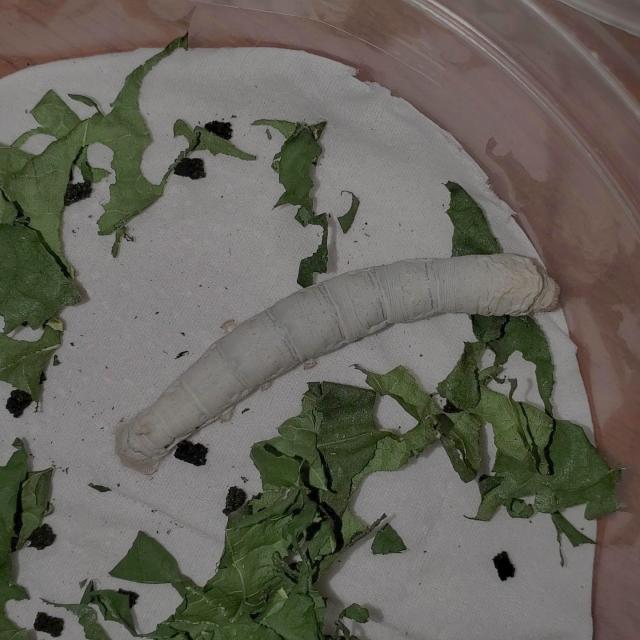Healthy: (104, 246, 569, 484)
